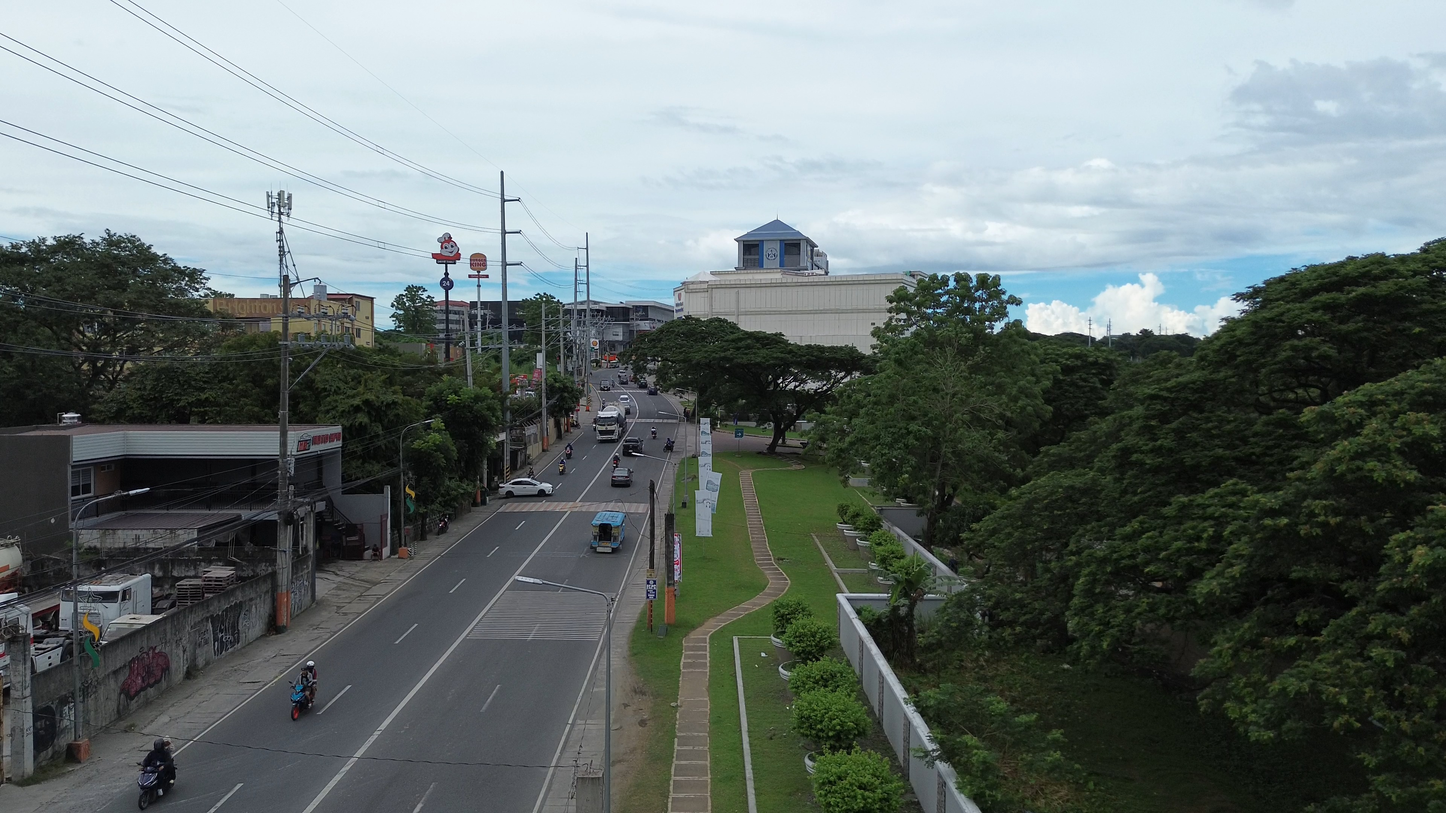car: (499, 478, 554, 497), (610, 467, 632, 486), (599, 381, 611, 391), (618, 392, 630, 402), (647, 386, 658, 395)
motorcycle: (137, 766, 173, 810), (291, 681, 312, 720), (436, 516, 449, 535), (664, 438, 674, 452), (558, 459, 566, 475), (565, 445, 573, 458), (650, 427, 657, 439)
vehicle: (59, 573, 151, 633), (101, 614, 162, 645), (137, 765, 171, 810), (590, 512, 626, 553), (594, 405, 624, 442), (623, 437, 642, 453), (599, 380, 612, 391), (664, 438, 674, 452), (618, 393, 631, 403)
